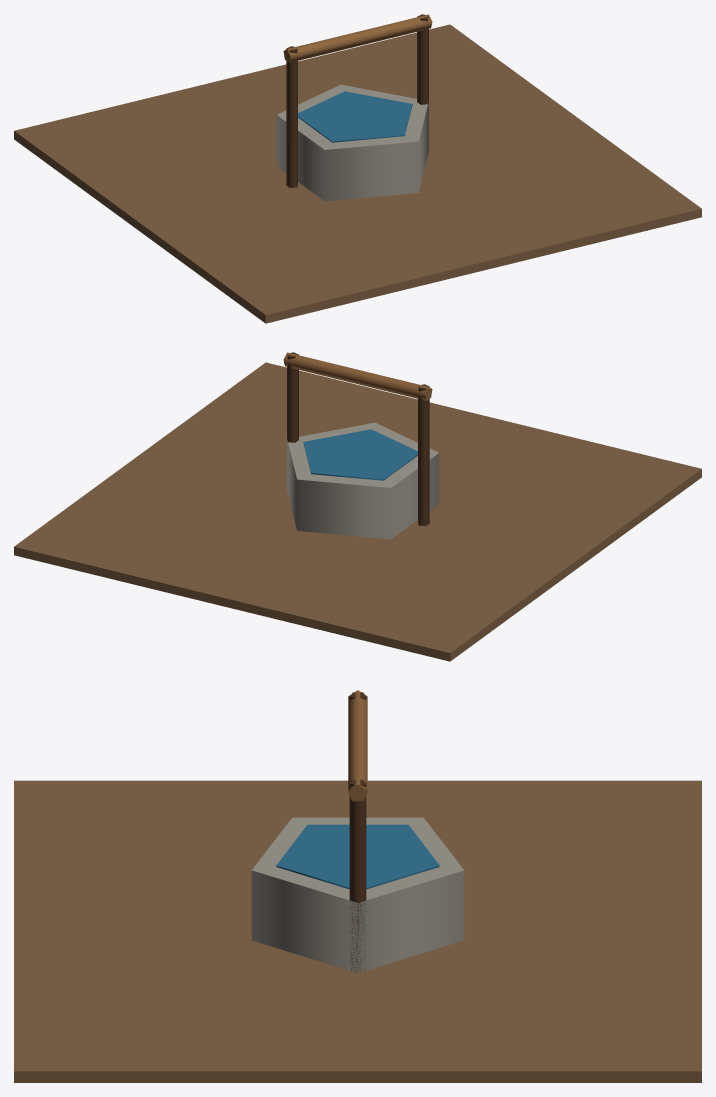
Rendered from bld_special_water_works_a01_lod2.glb.
3 views of the same model, one above another, from view 1: azimuth 30°, elevation 25°; view 2: azimuth 150°, elevation 25°; view 3: azimuth 270°, elevation 25° (orthographic). The views are drawn at different scales.
Parts seen in each view (by area): view 1: body; view 2: body; view 3: body.
Part boxes in pixels (x1,y1,x2,y2): body: (14, 14, 701, 323); body: (14, 352, 701, 661); body: (14, 690, 701, 1082).
Bounding box in the file's own units: 8 × 2.57 × 8.
